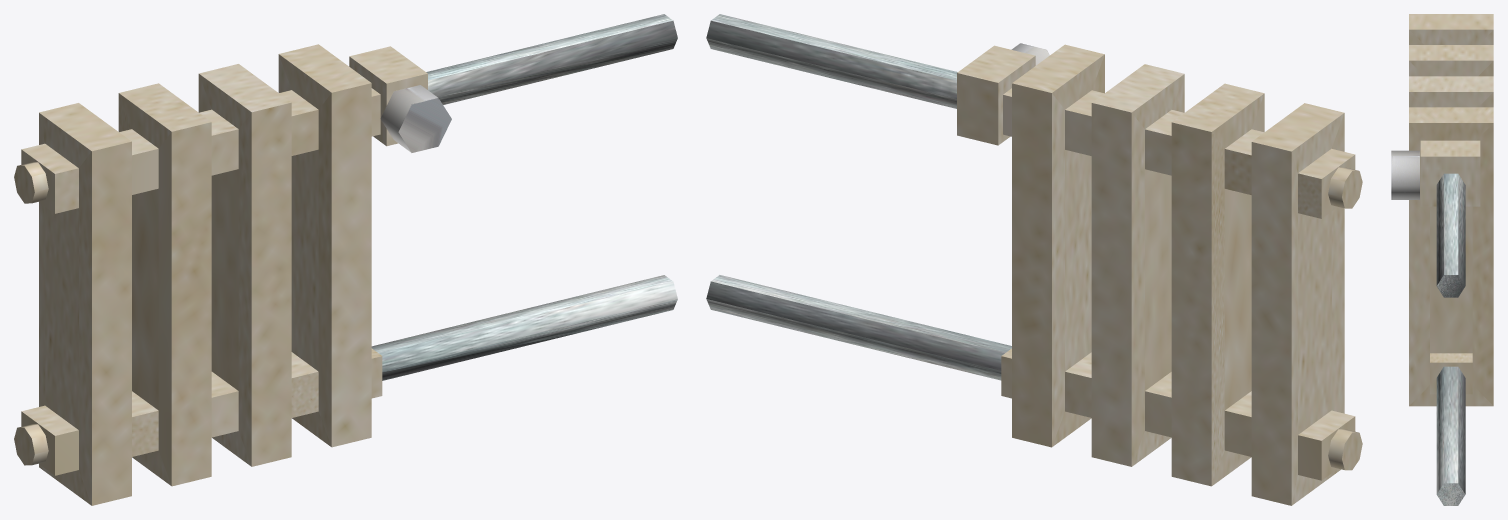
The model's file is radiator.FBX.
The picture shows the model from 3 angles, left to right: view 1: azimuth 30°, elevation 25°; view 2: azimuth 150°, elevation 25°; view 3: azimuth 270°, elevation 25°; orthographic projection. The views are drawn at different scales.
Visible parts, largest first — view 1: Box001, Cylinder003, Cylinder004; view 2: Box001, Cylinder003; view 3: Box001, Cylinder003, Cylinder004.
Part boxes in pixels (x1,y1,x2,y2): Box001: [14, 44, 427, 505]; Cylinder003: [371, 14, 677, 380]; Cylinder004: [380, 85, 451, 152]; Box001: [957, 44, 1362, 505]; Cylinder003: [706, 14, 1011, 380]; Box001: [1409, 14, 1493, 406]; Cylinder003: [1436, 173, 1465, 505]; Cylinder004: [1391, 150, 1419, 199].
Size of the model in its own units: 382 by 202 by 66.21.
3 materials, 3 textured.
